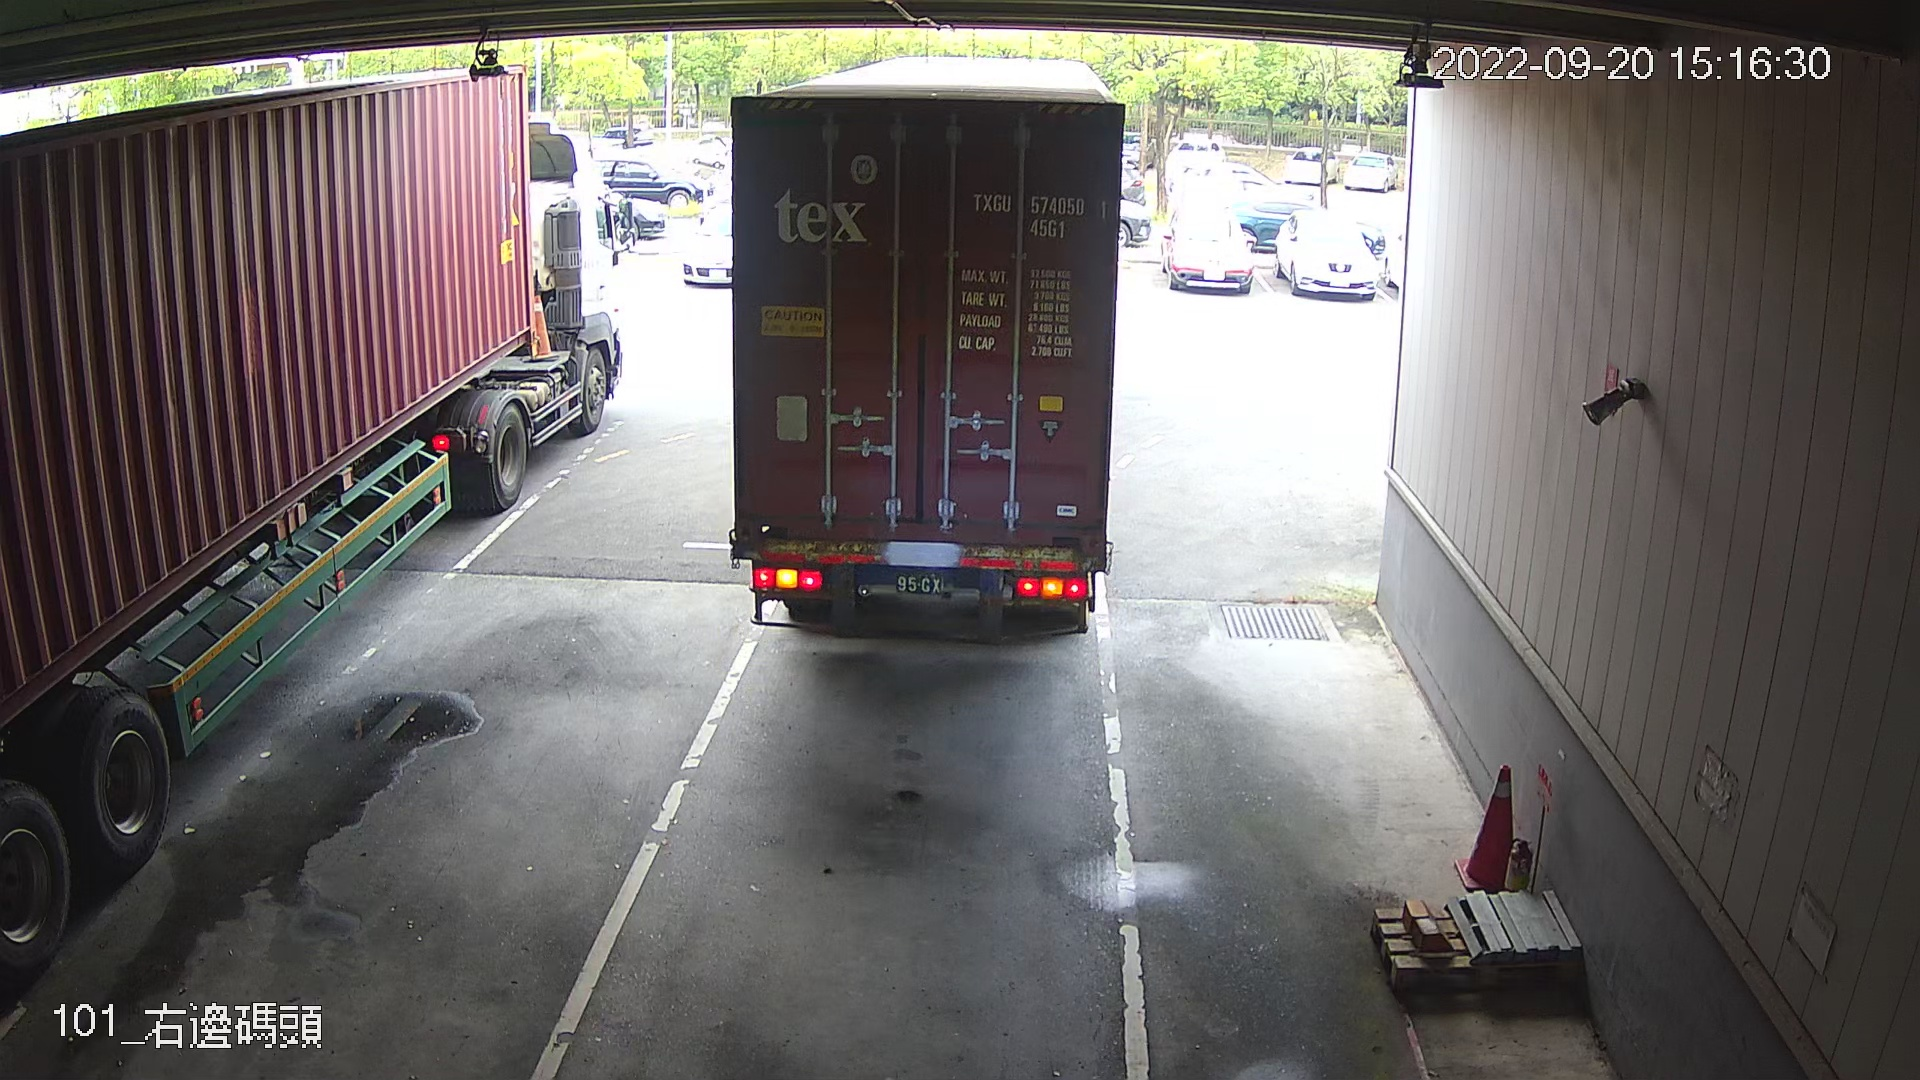container: (967, 179, 1114, 243)
